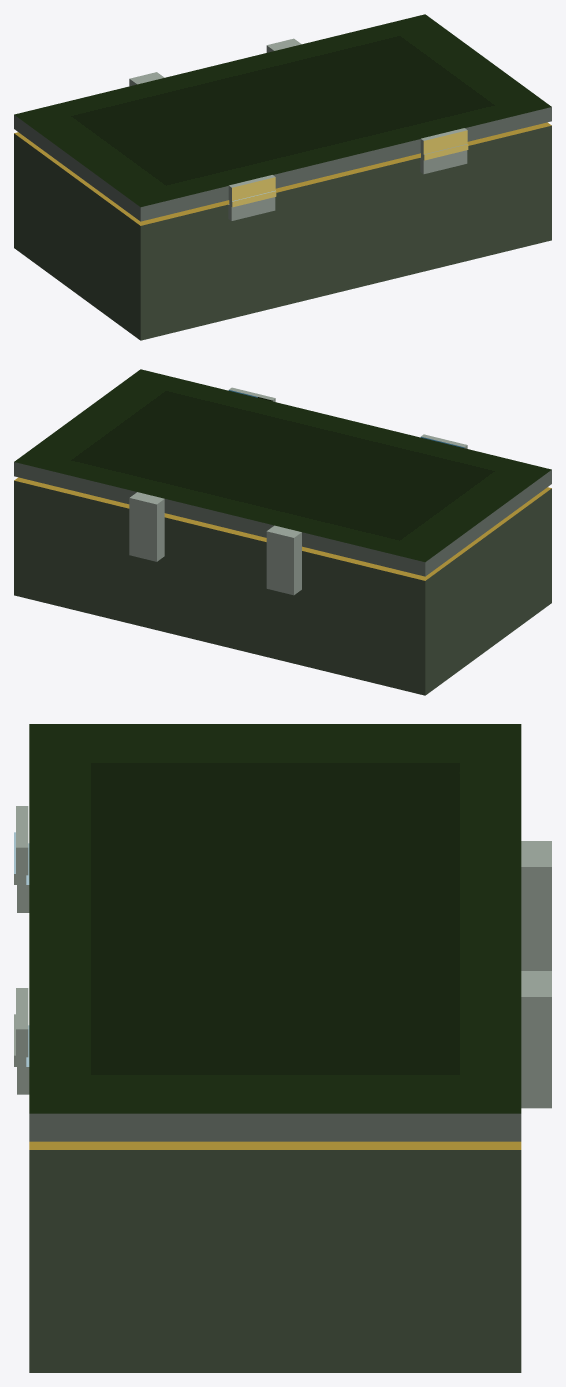
Rendered from chestAsset.gltf.
The picture shows the model from 3 angles, top to bottom: view 1: azimuth 30°, elevation 25°; view 2: azimuth 150°, elevation 25°; view 3: azimuth 270°, elevation 25°; orthographic projection. The views are drawn at different scales.
Visible parts, largest first — view 1: chest, lid, hinge3, hinge4, bottomHinge1, bottomHinge2; view 2: chest, lid, frontLatch1, frontLatch2; view 3: lid, chest, frontLatch1, frontLatch2, hinge3, hinge4.
Boxes of the visible parts, <box> form: chest: <box>14,122,551,340</box>; lid: <box>14,14,551,221</box>; hinge3: <box>228,175,275,201</box>; hinge4: <box>420,128,467,154</box>; bottomHinge1: <box>228,197,275,220</box>; bottomHinge2: <box>420,150,467,174</box>; chest: <box>14,477,551,695</box>; lid: <box>14,369,551,576</box>; frontLatch1: <box>129,492,164,561</box>; frontLatch2: <box>266,525,301,595</box>; lid: <box>29,724,521,1141</box>; chest: <box>29,1141,521,1372</box>; frontLatch1: <box>521,971,551,1108</box>; frontLatch2: <box>521,841,551,970</box>; hinge3: <box>16,806,28,875</box>; hinge4: <box>16,988,28,1057</box>.
Bounding box in the file's own units: 1.88 × 0.584 × 1.09.
1 material, 1 textured.
